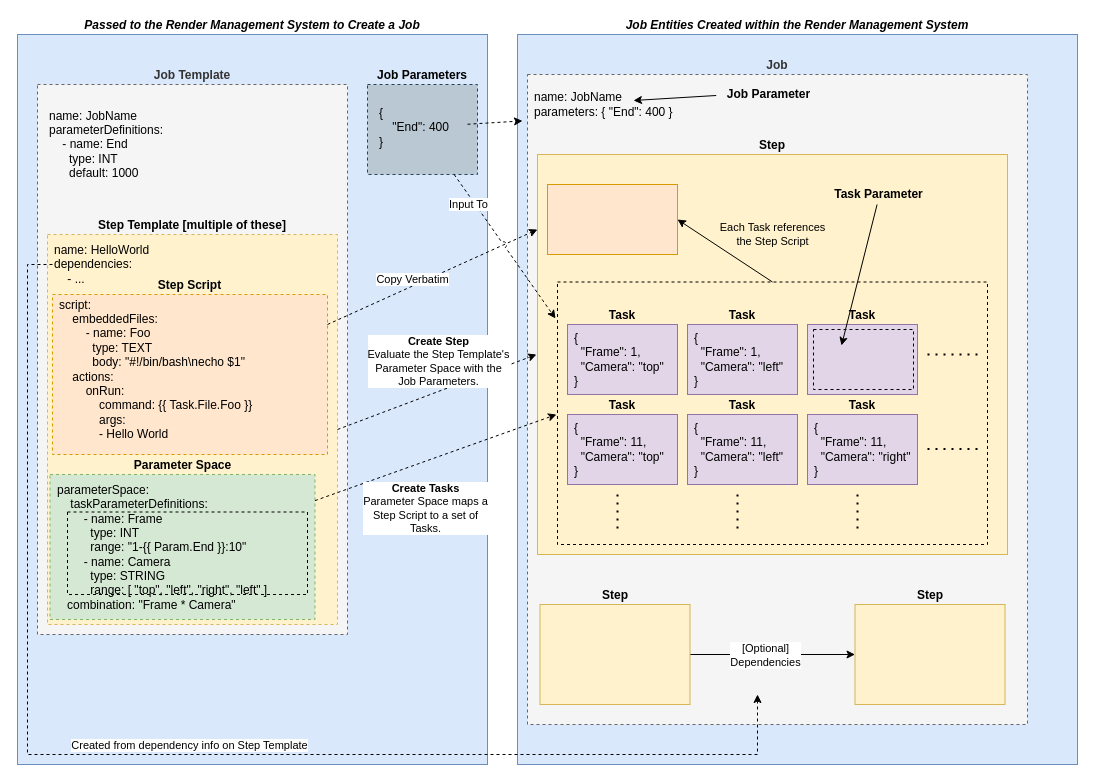
The diagram is 1095 pixels wide and 782 high, and some of its shapes have lost their labels. Each missing label, with the centre of its shape:
Step Script - embeddedFiles - actions: (x=612, y=219)
{ "Frame": 1, "Camera": "right" }: (x=863, y=359)
